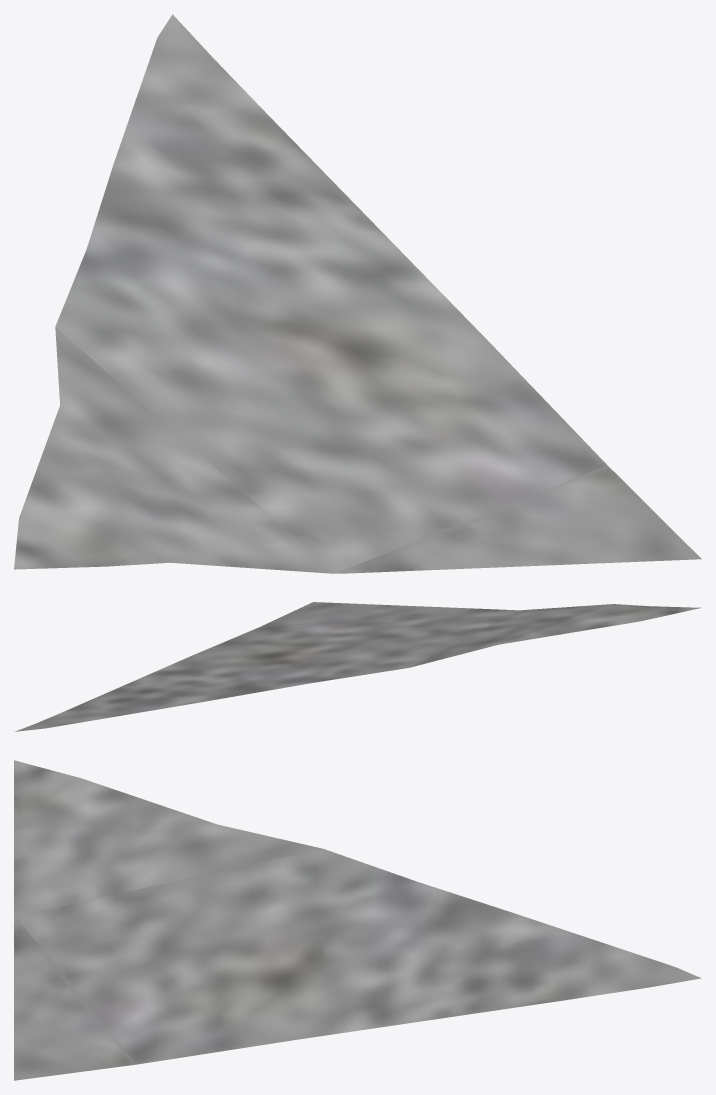
The picture shows the model from 3 angles, top to bottom: view 1: azimuth 30°, elevation 25°; view 2: azimuth 150°, elevation 25°; view 3: azimuth 270°, elevation 25°; orthographic projection. The views are drawn at different scales.
Bounding box in the file's own units: 0.5043 × 0.1104 × 0.6721.
1 material, 1 textured.
